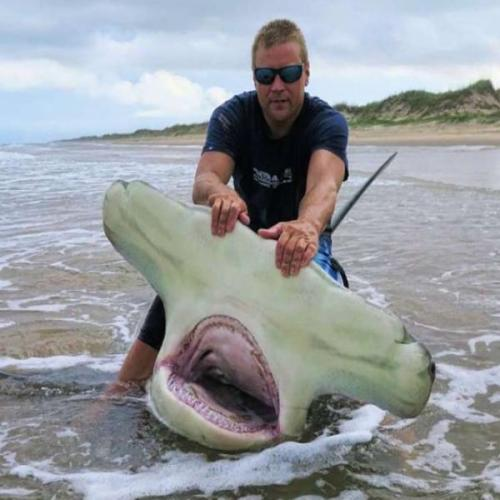shark-endangered: (104, 175, 438, 453)
